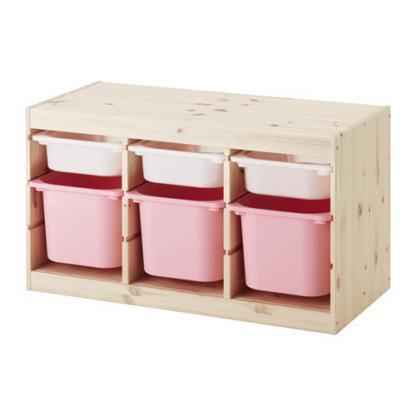Cabinet: (21, 74, 396, 341)
